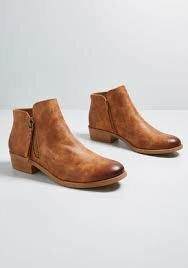Ankle boots: (7, 97, 127, 192), (84, 83, 187, 157)
